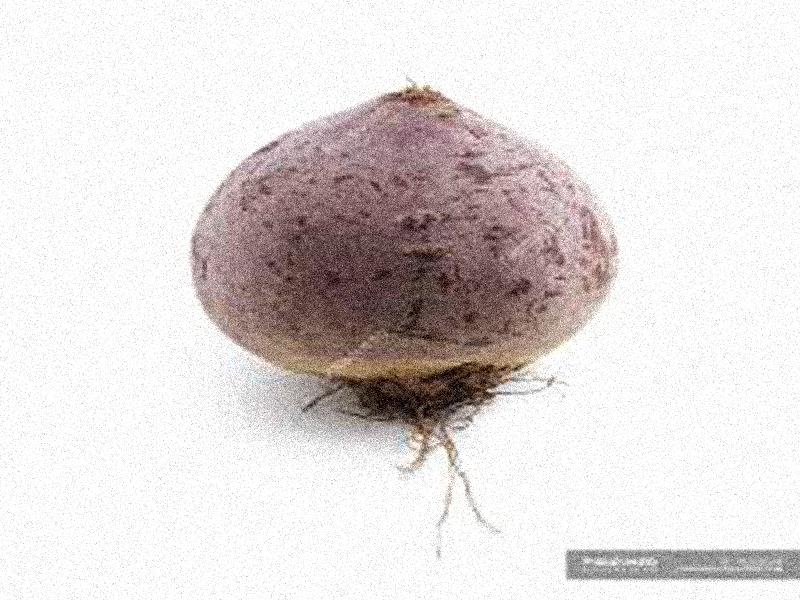Beet: (188, 83, 622, 560)
